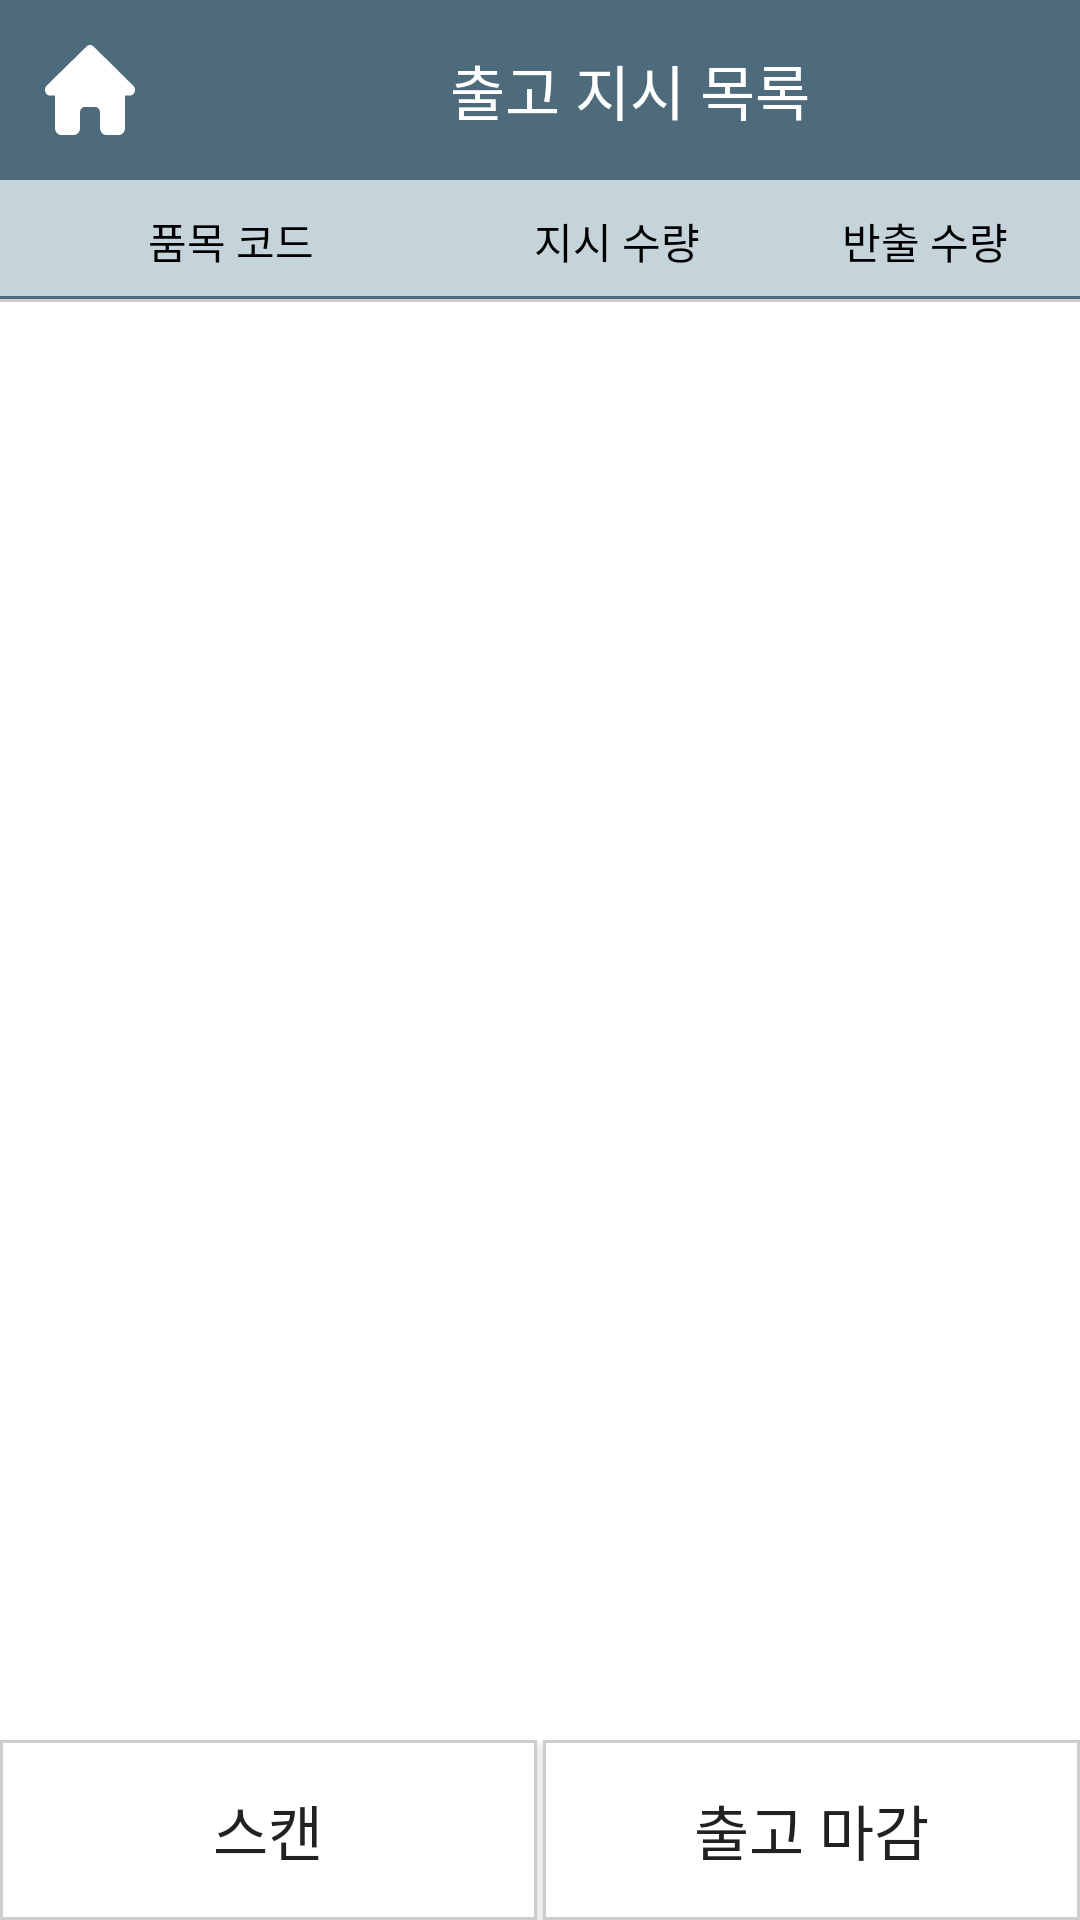

Icon bounding boxes for this 1080w x 1920h phone screenshot, format {"left": x1, "top": y1, "right": x2, "bottom": y2}:
house: {"left": 45, "top": 45, "right": 135, "bottom": 135}
